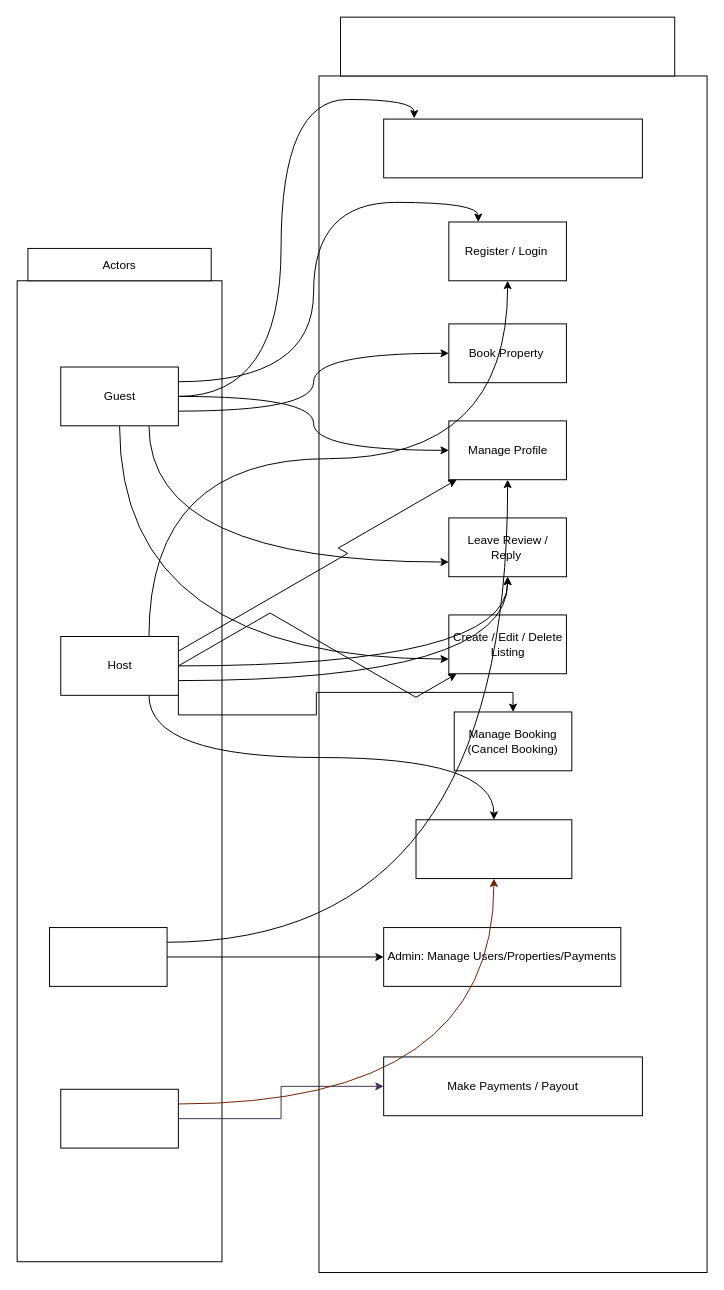
The diagram is 724 pixels wide and 1290 high, and some of its shapes have lost their labels. Here are the shapes that lost their labels. From the top down, the box of each, then its label:
(340, 16, 675, 76): Use Cases
(383, 118, 642, 178): Search and Filter Listing
(415, 819, 572, 879): Receive Notifications
(49, 927, 167, 986): Admin
(60, 1088, 178, 1148): System
